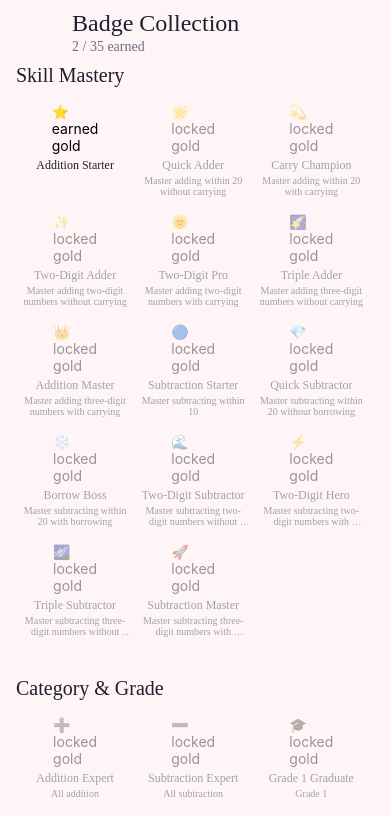
Test: BadgeCollectionScreen › dismisses detail overlay when close button is pressed
This screenshot has width=390, height=816.
// Open overlay
Click the text "Addition Starter" at (75, 166), box [36, 158, 114, 173]
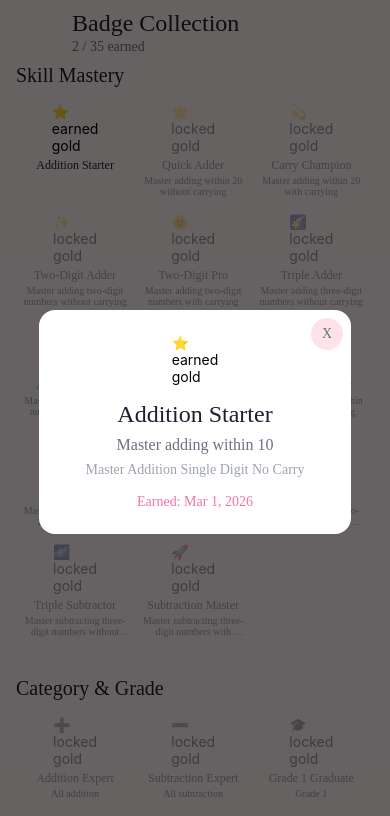
Expected: the text "Master adding within 10" is shown, [117, 436, 274, 454]
// Close overlay via close button
Click the button with test id "overlay-close" at (327, 334), box [311, 318, 343, 350]
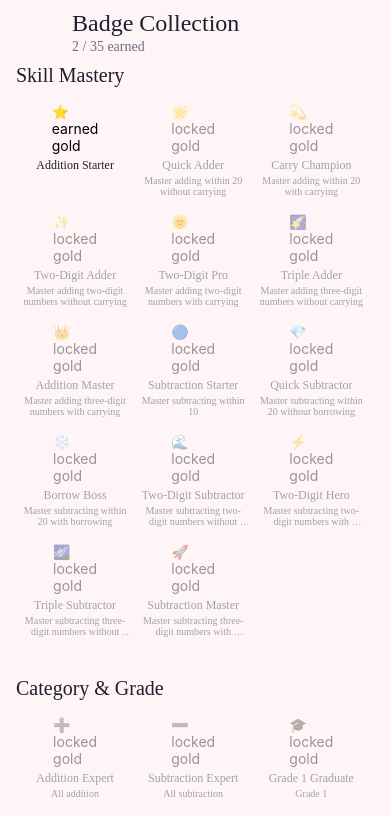
Expected: the button "Master adding within 10" is gone
